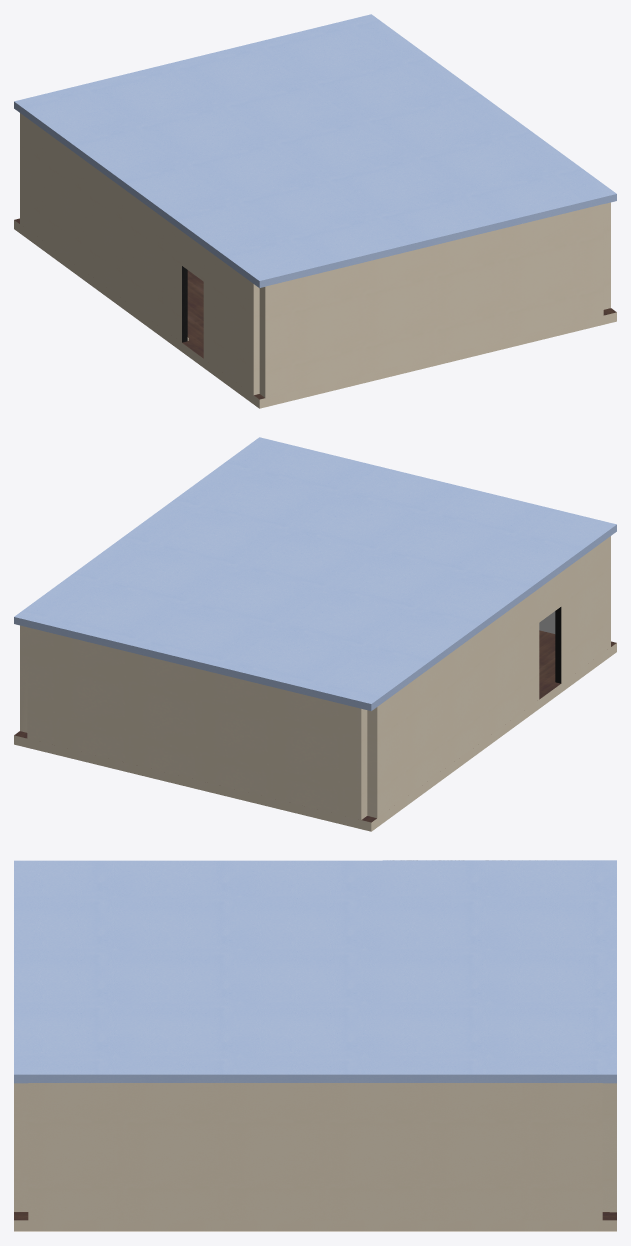
File: InteriorGym.FBX
The picture shows the model from 3 angles, top to bottom: view 1: azimuth 30°, elevation 25°; view 2: azimuth 150°, elevation 25°; view 3: azimuth 270°, elevation 25°; orthographic projection. The views are drawn at different scales.
Visible parts, largest first — view 1: InteriorGym; view 2: InteriorGym; view 3: InteriorGym.
Part boxes in pixels (<box>): InteriorGym: <box>14,14,616,408</box>; InteriorGym: <box>14,437,616,831</box>; InteriorGym: <box>14,860,616,1231</box>.
Bounding box in the file's own units: 500 × 170 × 594.
